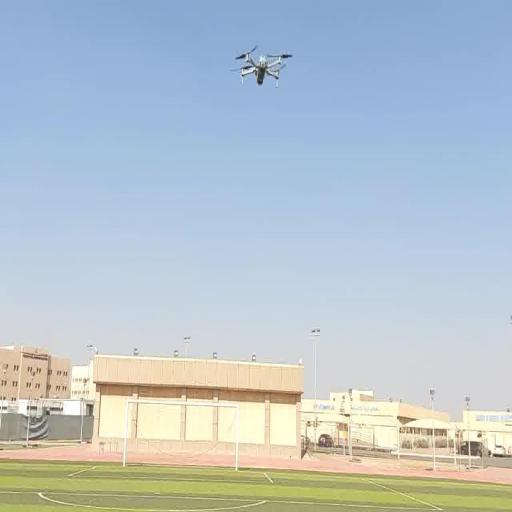drone: (230, 45, 296, 89)
